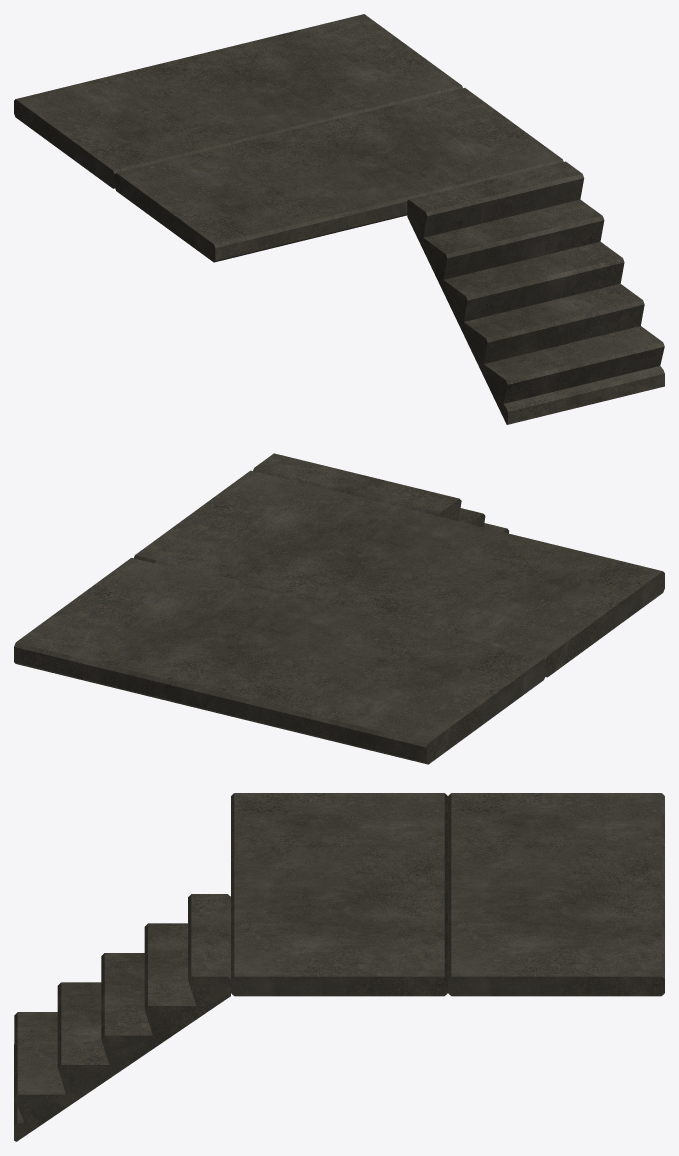
The model's file is stairs_2.fbx.
The picture shows the model from 3 angles, top to bottom: view 1: azimuth 30°, elevation 25°; view 2: azimuth 150°, elevation 25°; view 3: azimuth 270°, elevation 25°; orthographic projection. The views are drawn at different scales.
Visible parts, largest first — view 1: stairs_2; view 2: stairs_2; view 3: stairs_2.
Boxes of the visible parts, x1,y1,x2,y2 form: stairs_2: (14, 14, 664, 424); stairs_2: (14, 453, 664, 764); stairs_2: (14, 793, 664, 1141).
Size of the model in its own units: 4 by 6 by 1.68.
